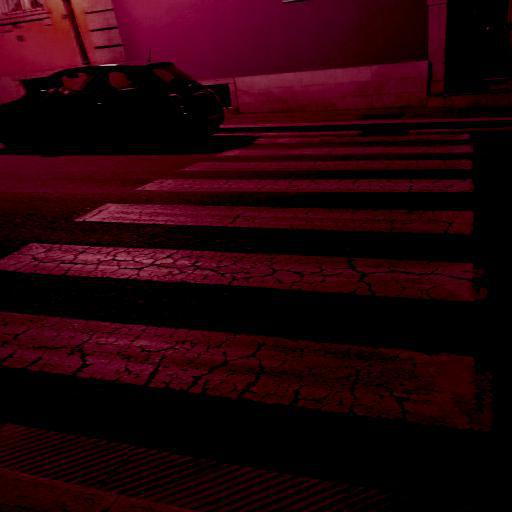crosswalk: (71, 172, 479, 242)
